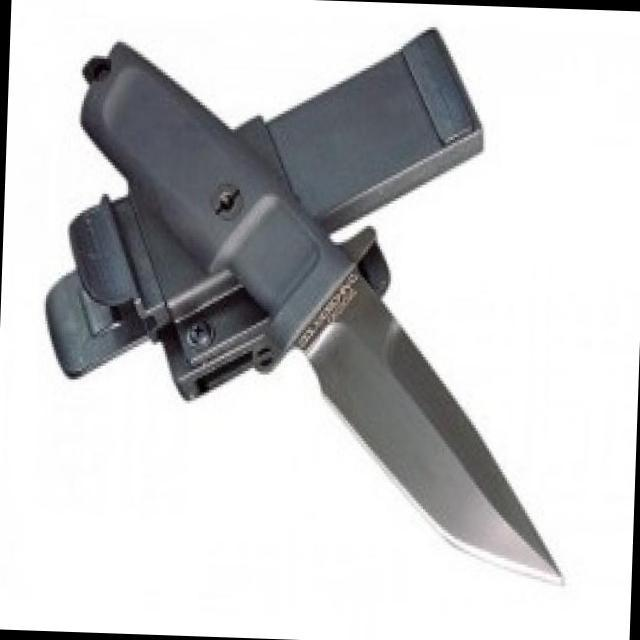Knife: (276, 254, 581, 589)
